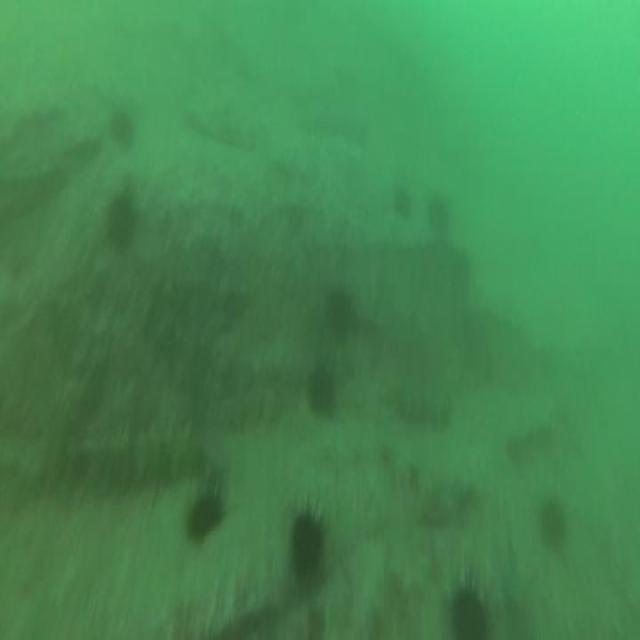echinus: (187, 490, 224, 540), (290, 517, 322, 572), (454, 591, 484, 640), (308, 364, 335, 416), (110, 193, 132, 251), (327, 283, 352, 332), (538, 501, 564, 544), (111, 109, 134, 147), (430, 195, 448, 232)
holothurian: (78, 434, 209, 486)
